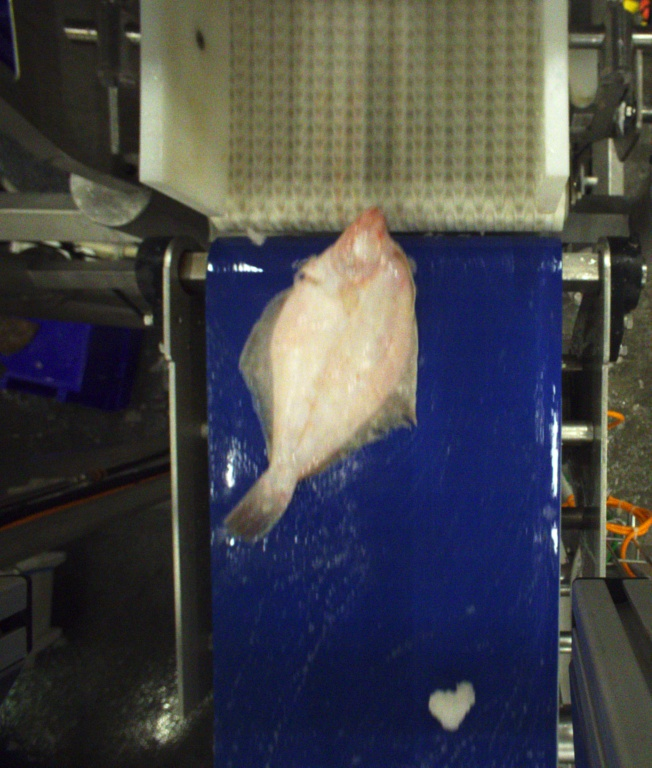PLE: (225, 210, 419, 541)
